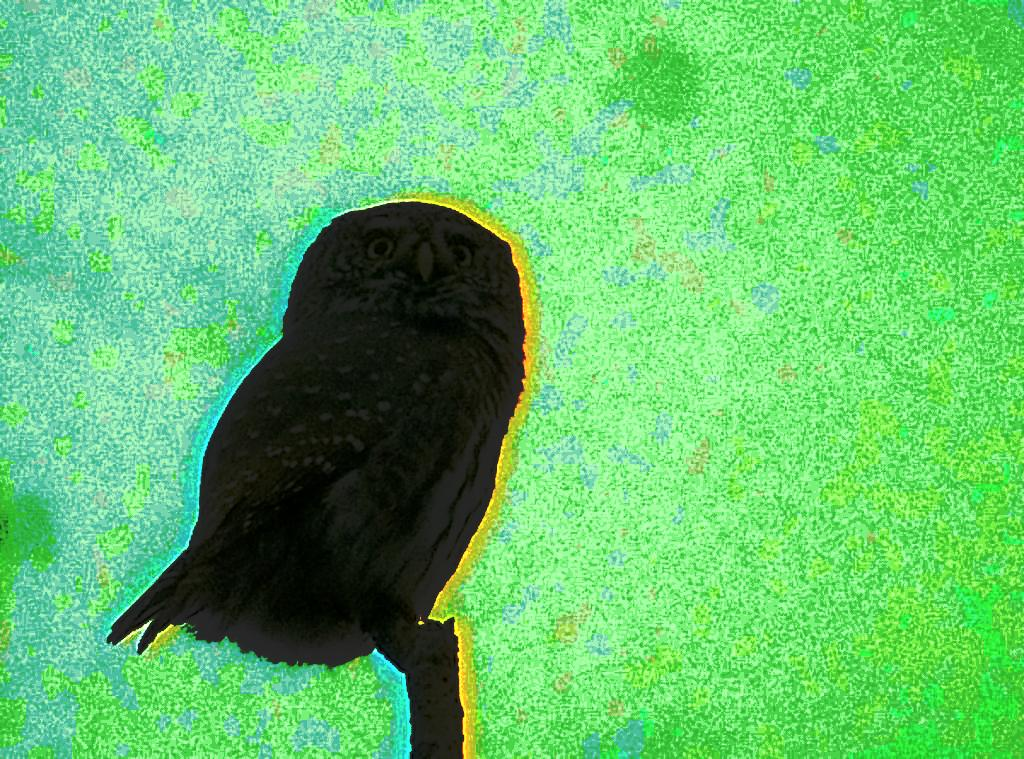Owl: (102, 201, 524, 654)
